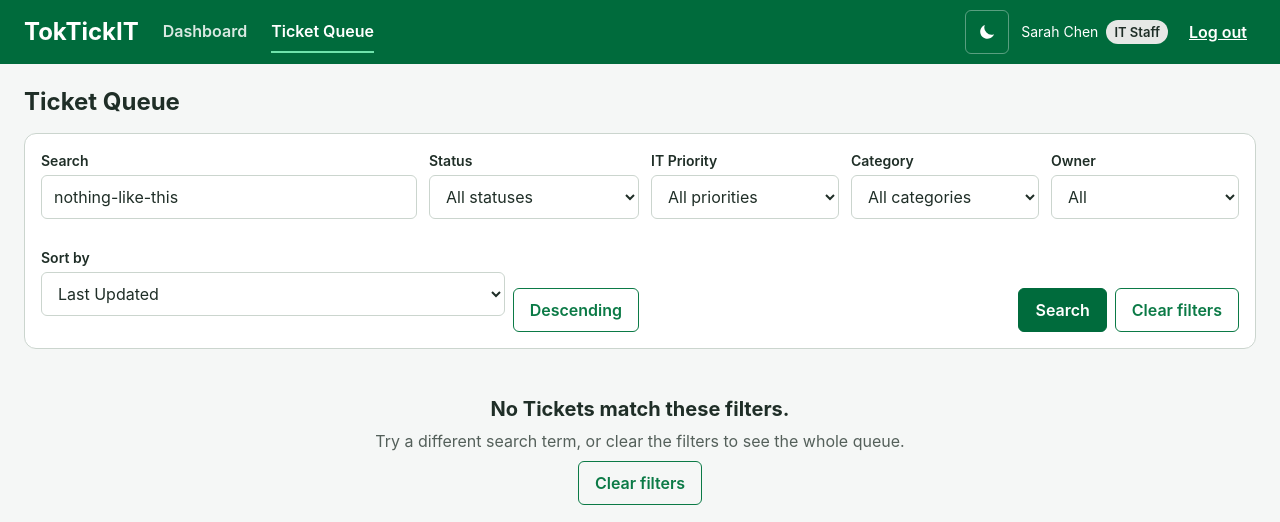
Test: UI-11 empty and no-results are different states (AC-23) › says nothing matched, keeps the controls, and offers a way out
This screenshot has width=1280, height=522.
Check: the heading "Ticket Queue" is shown, box [24,88,180,117]
Check: the heading "No Tickets match these filters." is shown, box [491,397,789,421]
Click the button "Clear filters" below "Category" at (1177, 310), box [1115,288,1239,332]
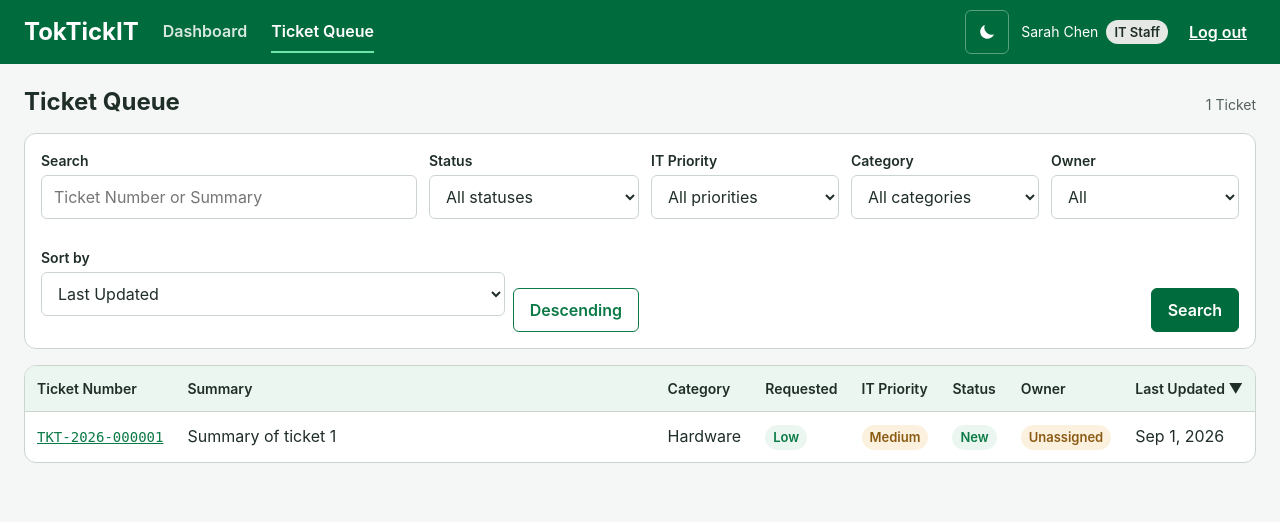
Check: the search field labelled "Search" is empty, box [41,175,417,219]
